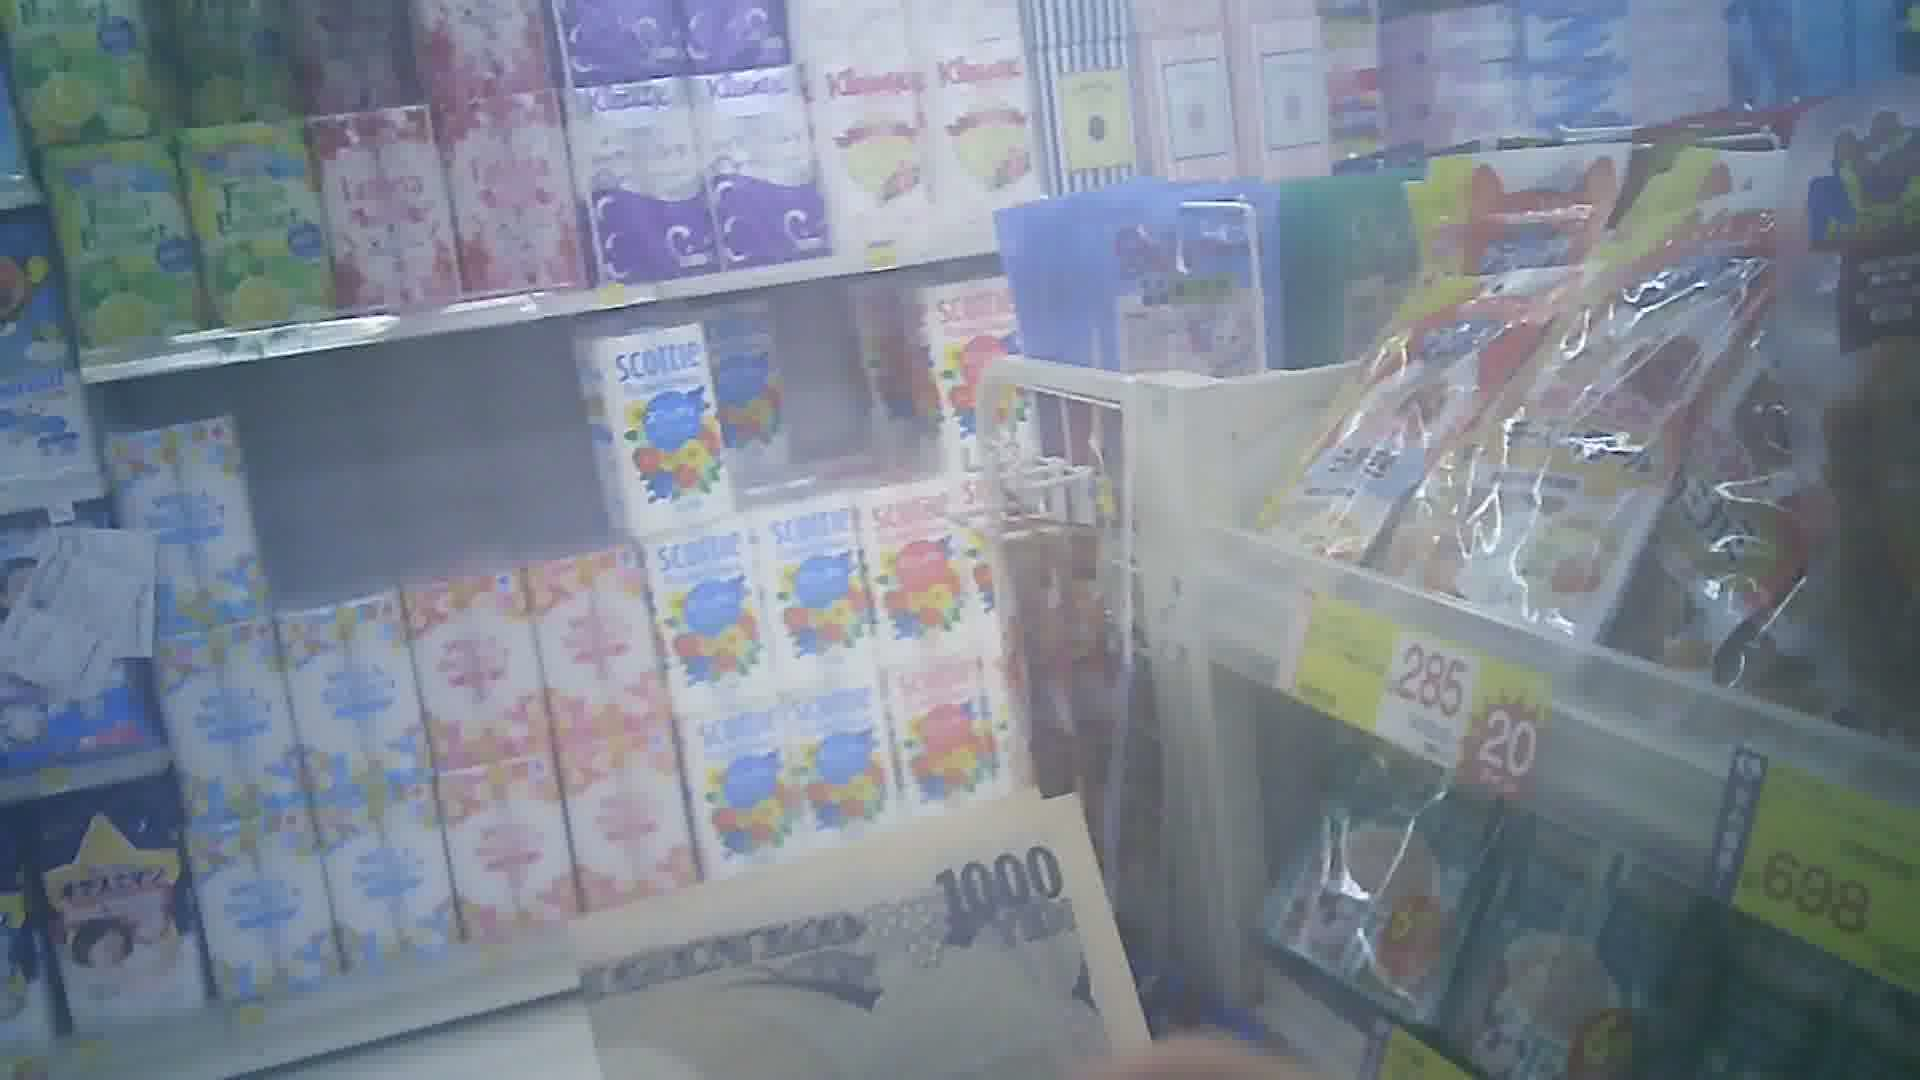1,000 Yen: (556, 804, 1153, 1079)
